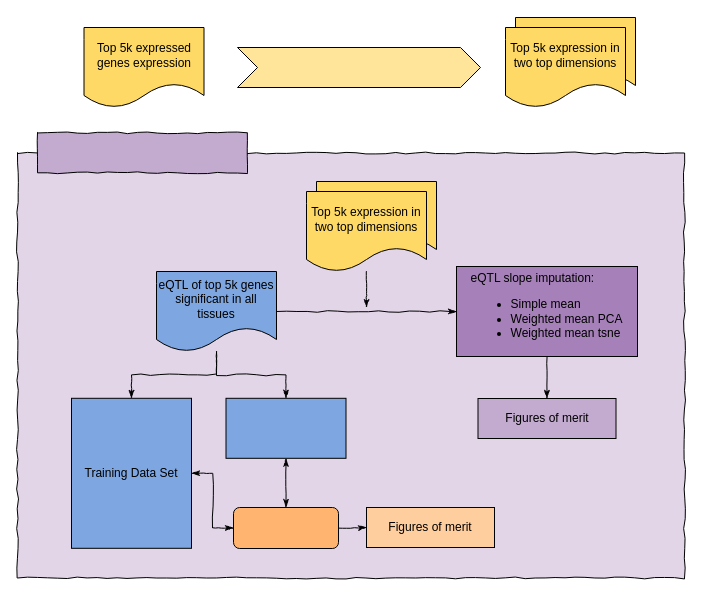
Some shapes in this 702 by 596 pixel diagram are drawn without their labels. The centre of each missing label's shape, as x and y in pixels:
getDimensionalityReduction.r: the point at 358,67
imputation.ipynb: the point at 142,152
Models: the point at 285,527
Validation Data Set: the point at 285,427
